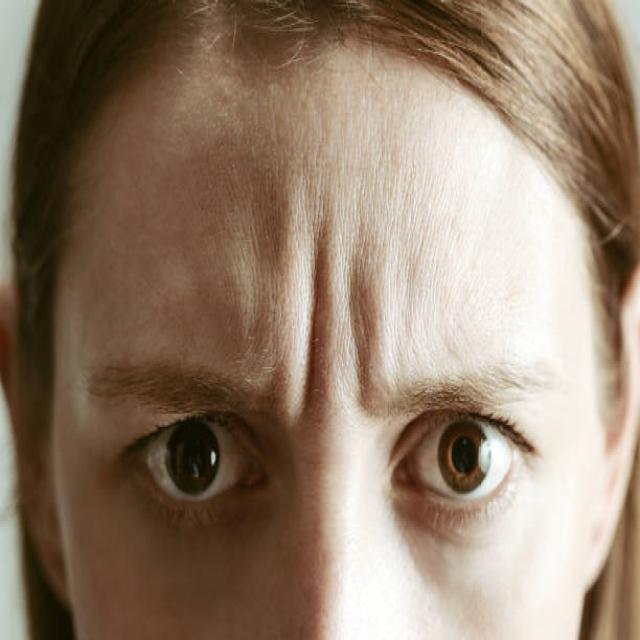Dry-Skin: (146, 88, 504, 356)
